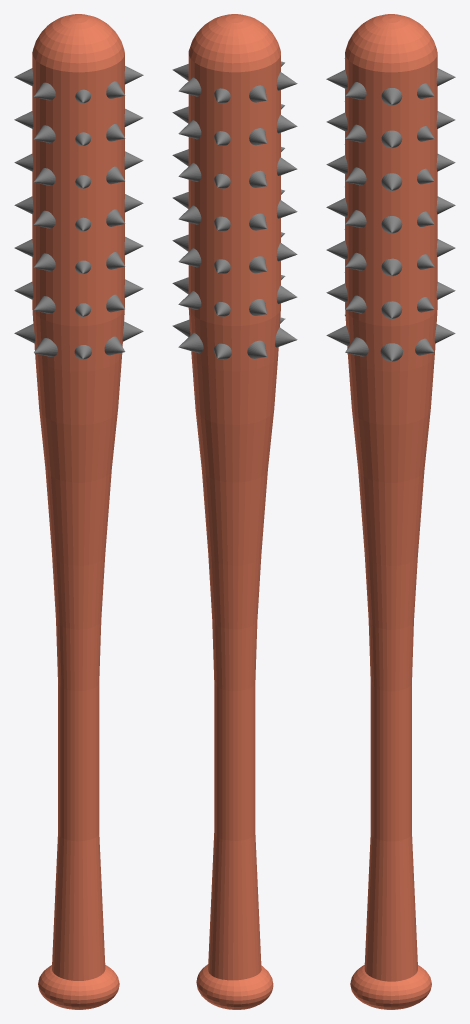
The model's file is bate.fbx.
3 views of the same model, side by side, from view 1: azimuth 90°, elevation 25°; view 2: azimuth 210°, elevation 25°; view 3: azimuth 270°, elevation 25° (orthographic).
Parts seen in each view (by area): view 1: Sphere, Cone.001; view 2: Sphere, Cone.001; view 3: Sphere, Cone.001.
Boxes of the visible parts, x1,y1,x2,y2 form: Sphere: (32, 14, 124, 1009); Cone.001: (14, 66, 143, 359); Sphere: (188, 14, 280, 1009); Cone.001: (172, 61, 297, 359); Sphere: (345, 14, 437, 1009); Cone.001: (326, 58, 455, 361).
Size of the model in its own units: 53.82 by 462 by 55.12.
